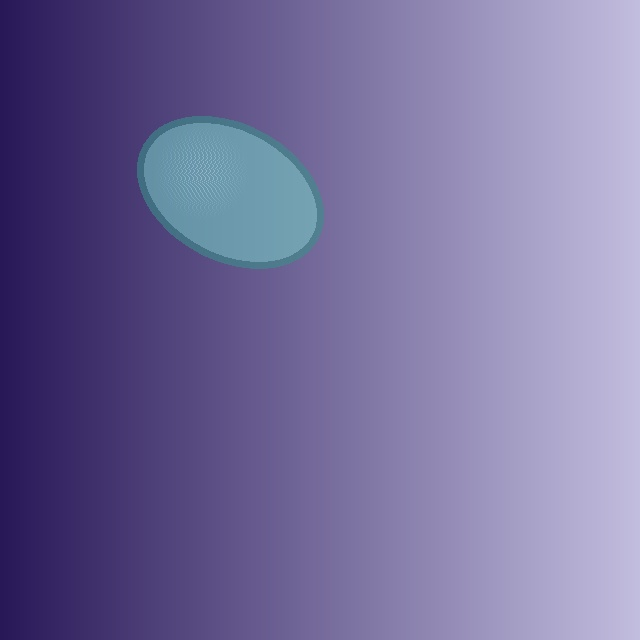lens: (140, 120, 320, 264)
